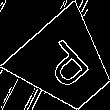P_SE: (35, 33, 96, 96)
